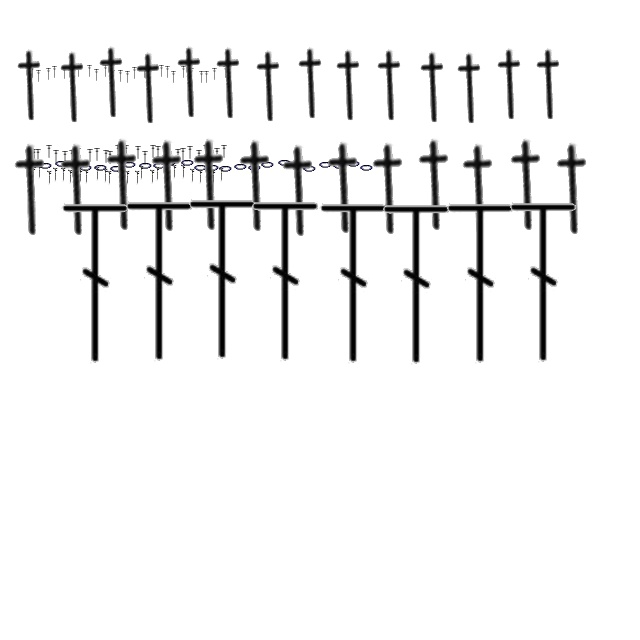chain: (24, 160, 40, 172), (38, 160, 54, 172), (54, 158, 70, 170), (78, 162, 94, 174), (138, 160, 154, 172), (152, 160, 168, 172), (290, 158, 306, 170), (332, 160, 348, 172), (346, 158, 362, 170), (66, 158, 80, 170), (94, 162, 108, 174), (194, 162, 208, 174), (206, 162, 220, 174), (248, 162, 262, 174), (360, 162, 374, 174), (122, 160, 138, 170), (162, 158, 178, 168), (180, 158, 196, 168), (218, 164, 234, 174), (260, 160, 276, 170), (302, 164, 318, 174), (318, 160, 334, 170), (110, 164, 124, 174), (234, 162, 248, 172), (278, 158, 292, 168)
double treble: (60, 198, 132, 368), (124, 196, 196, 366), (187, 194, 259, 364), (250, 196, 322, 366), (318, 198, 390, 368), (381, 199, 453, 369), (445, 198, 517, 368), (508, 197, 580, 367), (78, 168, 84, 184), (166, 166, 172, 182), (172, 164, 178, 180), (190, 168, 196, 184), (53, 150, 59, 164), (69, 150, 75, 164), (75, 148, 81, 162), (94, 148, 100, 162), (103, 150, 109, 164), (135, 146, 141, 160), (155, 146, 161, 160), (180, 148, 186, 162), (187, 146, 193, 160), (196, 150, 202, 164), (214, 148, 220, 162), (68, 170, 74, 184), (84, 170, 90, 184), (150, 170, 156, 184), (198, 170, 204, 184), (204, 166, 210, 180), (30, 66, 36, 78), (36, 70, 42, 82), (46, 68, 52, 80), (52, 66, 58, 78), (62, 67, 68, 79), (76, 65, 82, 77), (94, 69, 100, 81), (110, 70, 116, 82), (118, 70, 124, 82), (132, 67, 138, 79), (142, 66, 148, 78), (204, 71, 210, 83), (212, 68, 218, 80), (31, 150, 37, 162), (35, 150, 41, 162), (46, 146, 52, 158), (62, 152, 68, 164), (87, 150, 93, 162), (107, 152, 113, 164), (115, 146, 121, 158), (123, 146, 129, 158), (142, 152, 148, 164), (150, 146, 156, 158), (164, 152, 170, 164), (175, 150, 181, 162), (203, 146, 209, 158), (221, 146, 227, 158), (32, 166, 36, 182), (38, 164, 42, 180), (48, 170, 52, 186), (96, 166, 100, 182), (104, 168, 108, 184), (108, 170, 112, 186), (118, 170, 122, 186), (126, 170, 130, 186), (136, 170, 140, 186), (156, 166, 160, 182), (182, 164, 186, 180), (54, 168, 58, 182), (62, 168, 66, 182), (140, 166, 144, 180), (212, 170, 216, 184), (220, 168, 224, 182), (72, 68, 76, 80), (88, 65, 92, 77), (104, 65, 108, 77), (126, 71, 130, 83), (148, 66, 152, 78), (160, 65, 164, 77), (166, 66, 170, 78), (172, 71, 176, 83), (182, 66, 186, 78), (190, 68, 194, 80), (200, 71, 204, 83), (224, 66, 228, 78)
enseble_chain: (4, 143, 60, 237), (50, 143, 106, 237), (96, 138, 152, 232), (272, 144, 328, 238), (362, 142, 418, 236), (408, 138, 464, 232), (452, 143, 508, 237), (500, 138, 556, 232), (546, 142, 602, 236), (142, 139, 196, 233), (184, 138, 238, 232), (230, 139, 284, 233), (318, 141, 372, 235), (128, 52, 172, 126), (248, 50, 292, 124), (528, 48, 572, 122), (52, 52, 96, 124), (208, 48, 252, 120), (290, 48, 334, 120), (328, 50, 372, 122), (412, 52, 456, 124), (92, 46, 134, 120), (170, 46, 212, 120), (450, 52, 492, 126), (490, 48, 532, 122), (10, 50, 52, 122), (370, 50, 412, 122)
